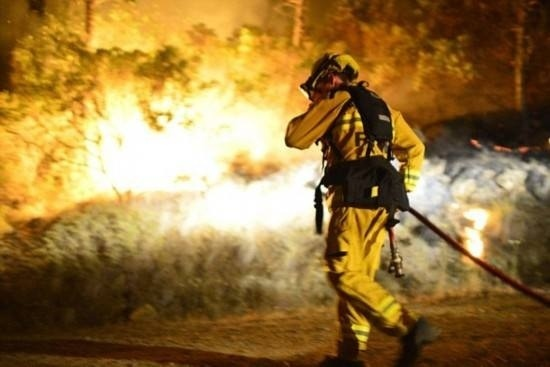fire: (11, 82, 288, 201)
